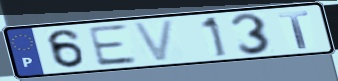1: (199, 16, 230, 59)
3: (230, 11, 274, 56)
6: (45, 28, 87, 70)
E: (85, 22, 141, 68)
T: (277, 10, 312, 50)
V: (130, 18, 178, 64)
